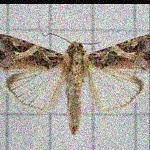Spodoptera litura: (0, 19, 149, 135)
